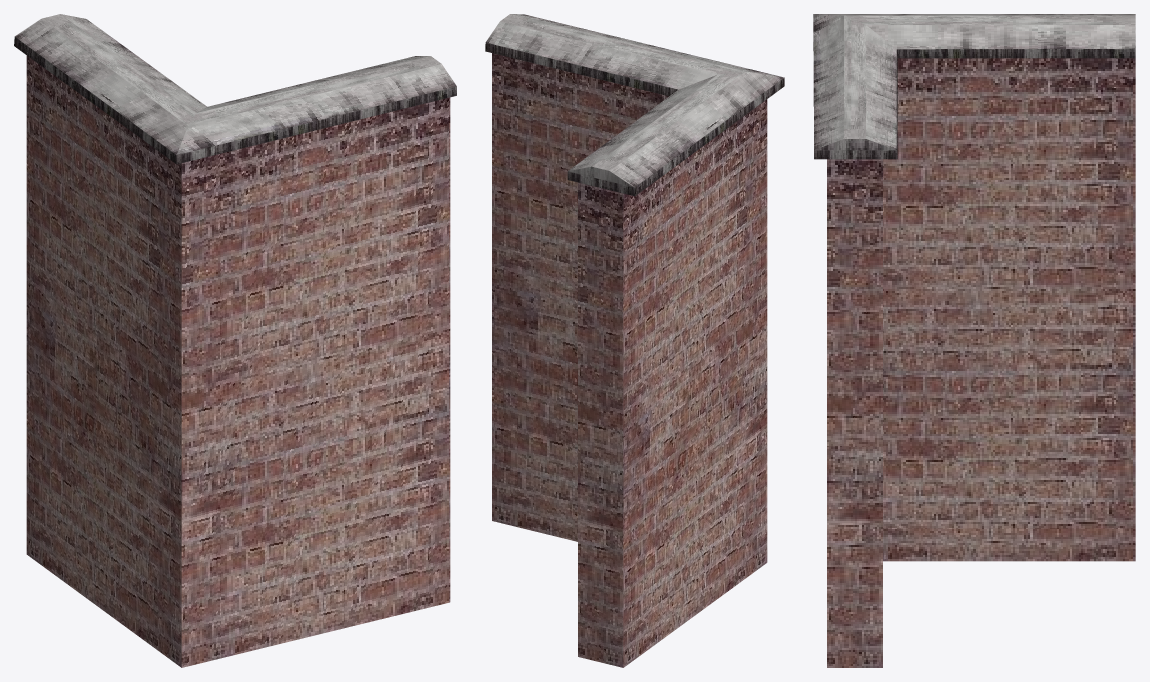
The model's file is lf_brick_wall_corner.glb.
3 renders of one model, left to right at view 1: azimuth 30°, elevation 25°; view 2: azimuth 150°, elevation 25°; view 3: azimuth 270°, elevation 25°, orthographic. The views are drawn at different scales.
Visible parts, largest first — view 1: brick_Wall_corner; view 2: brick_Wall_corner; view 3: brick_Wall_corner.
Part boxes in pixels (x1=…): brick_Wall_corner: x1=14, y1=14, x2=456, y2=667; brick_Wall_corner: x1=485, y1=14, x2=784, y2=667; brick_Wall_corner: x1=813, y1=14, x2=1135, y2=667.
Bounding box in the file's own units: 1.15 × 2.08 × 1.15.
2 materials, 2 textured.
